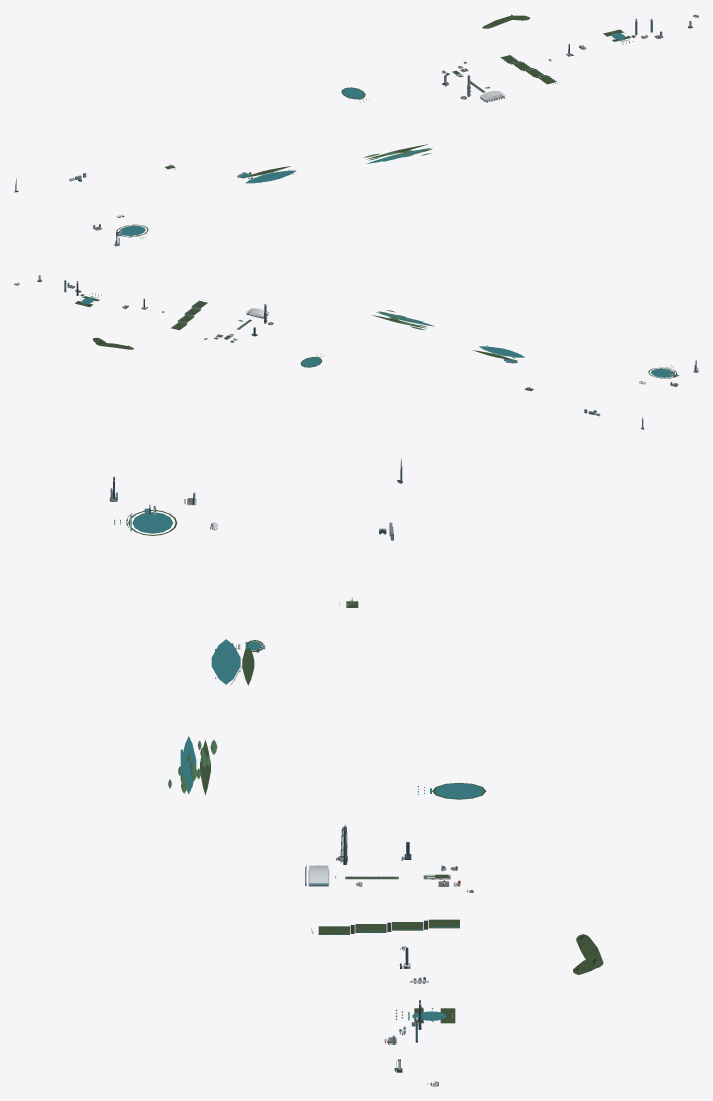
The model's file is landmark-candidates.glb.
The picture shows the model from 3 angles, top to bottom: view 1: azimuth 30°, elevation 25°; view 2: azimuth 150°, elevation 25°; view 3: azimuth 270°, elevation 25°; orthographic projection. The views are drawn at different scales.
Visible parts, largest first — view 1: landmark_central_park_park; view 2: landmark_central_park_park; view 3: landmark_central_park_park.
Boxes of the visible parts, bbox=[...] form: landmark_central_park_park: bbox=[500, 55, 556, 84]; landmark_central_park_park: bbox=[171, 300, 207, 330]; landmark_central_park_park: bbox=[318, 919, 459, 934].
Bounding box in the file's own units: 11632 × 363 × 3998.
16 materials, 4 textured.
